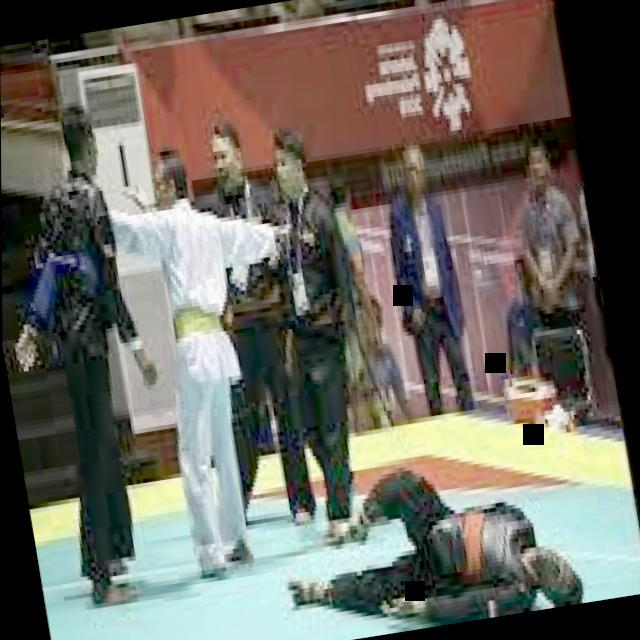Fall-Detected: (264, 403, 599, 640)
